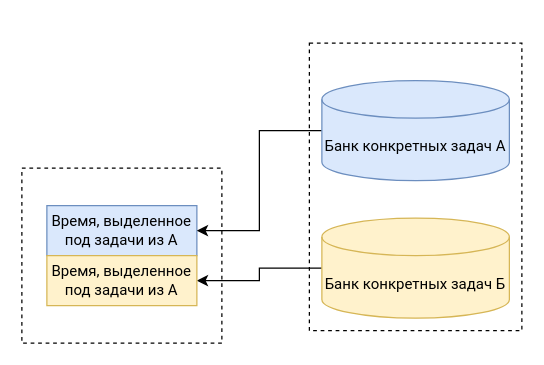
The diagram is 544 pixels wide and 365 high, and some of its shapes have lost their labels. The shapes that lost their labels are listed below. From the top down, each one's box as (x1, y1, x2, y2) in pixels, then its label:
(308, 42, 522, 331): Банк задач
(21, 167, 222, 343): Дневная программа
